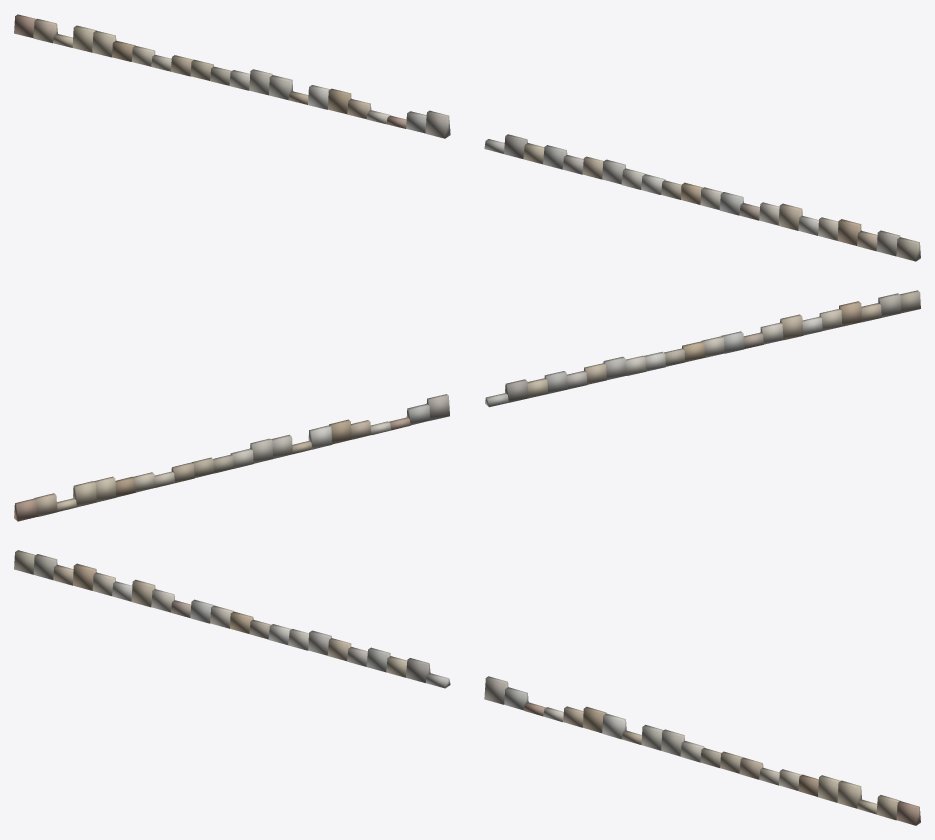
Rendered from farm_-3_16_collision.glb.
The picture shows the model from 3 angles, top to bottom: view 1: azimuth 90°, elevation 25°; view 2: azimuth 150°, elevation 25°; view 3: azimuth 270°, elevation 25°; orthographic projection. The views are drawn at different scales.
Parts seen in each view (by area): view 1: geometry_0; view 2: geometry_0; view 3: geometry_0.
Boxes of the visible parts, <box> form: geometry_0: <box>14,14,920,261</box>; geometry_0: <box>14,290,920,521</box>; geometry_0: <box>14,550,920,825</box>.
Bounding box in the file's own units: 39.68 × 2.5 × 61.93.
